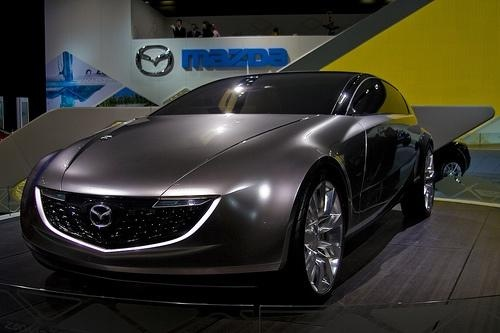car: (19, 69, 433, 302)
